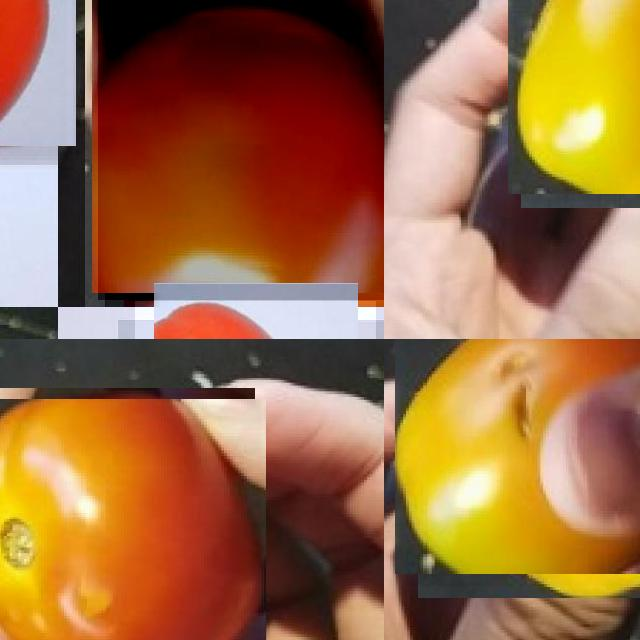0: (98, 0, 384, 300)
Fresh Tomato: (0, 393, 261, 640)
Rotten Tomato: (406, 339, 640, 586), (514, 0, 640, 201)
